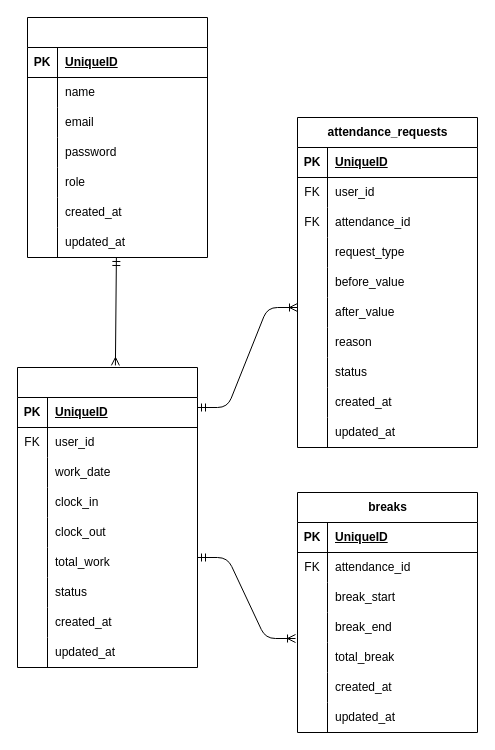
Image size: 495x750. Some labels were removed from this diagram. Each missing label, with the box of its shape:
attendances: (16, 366, 198, 668)
user: (26, 16, 208, 258)
